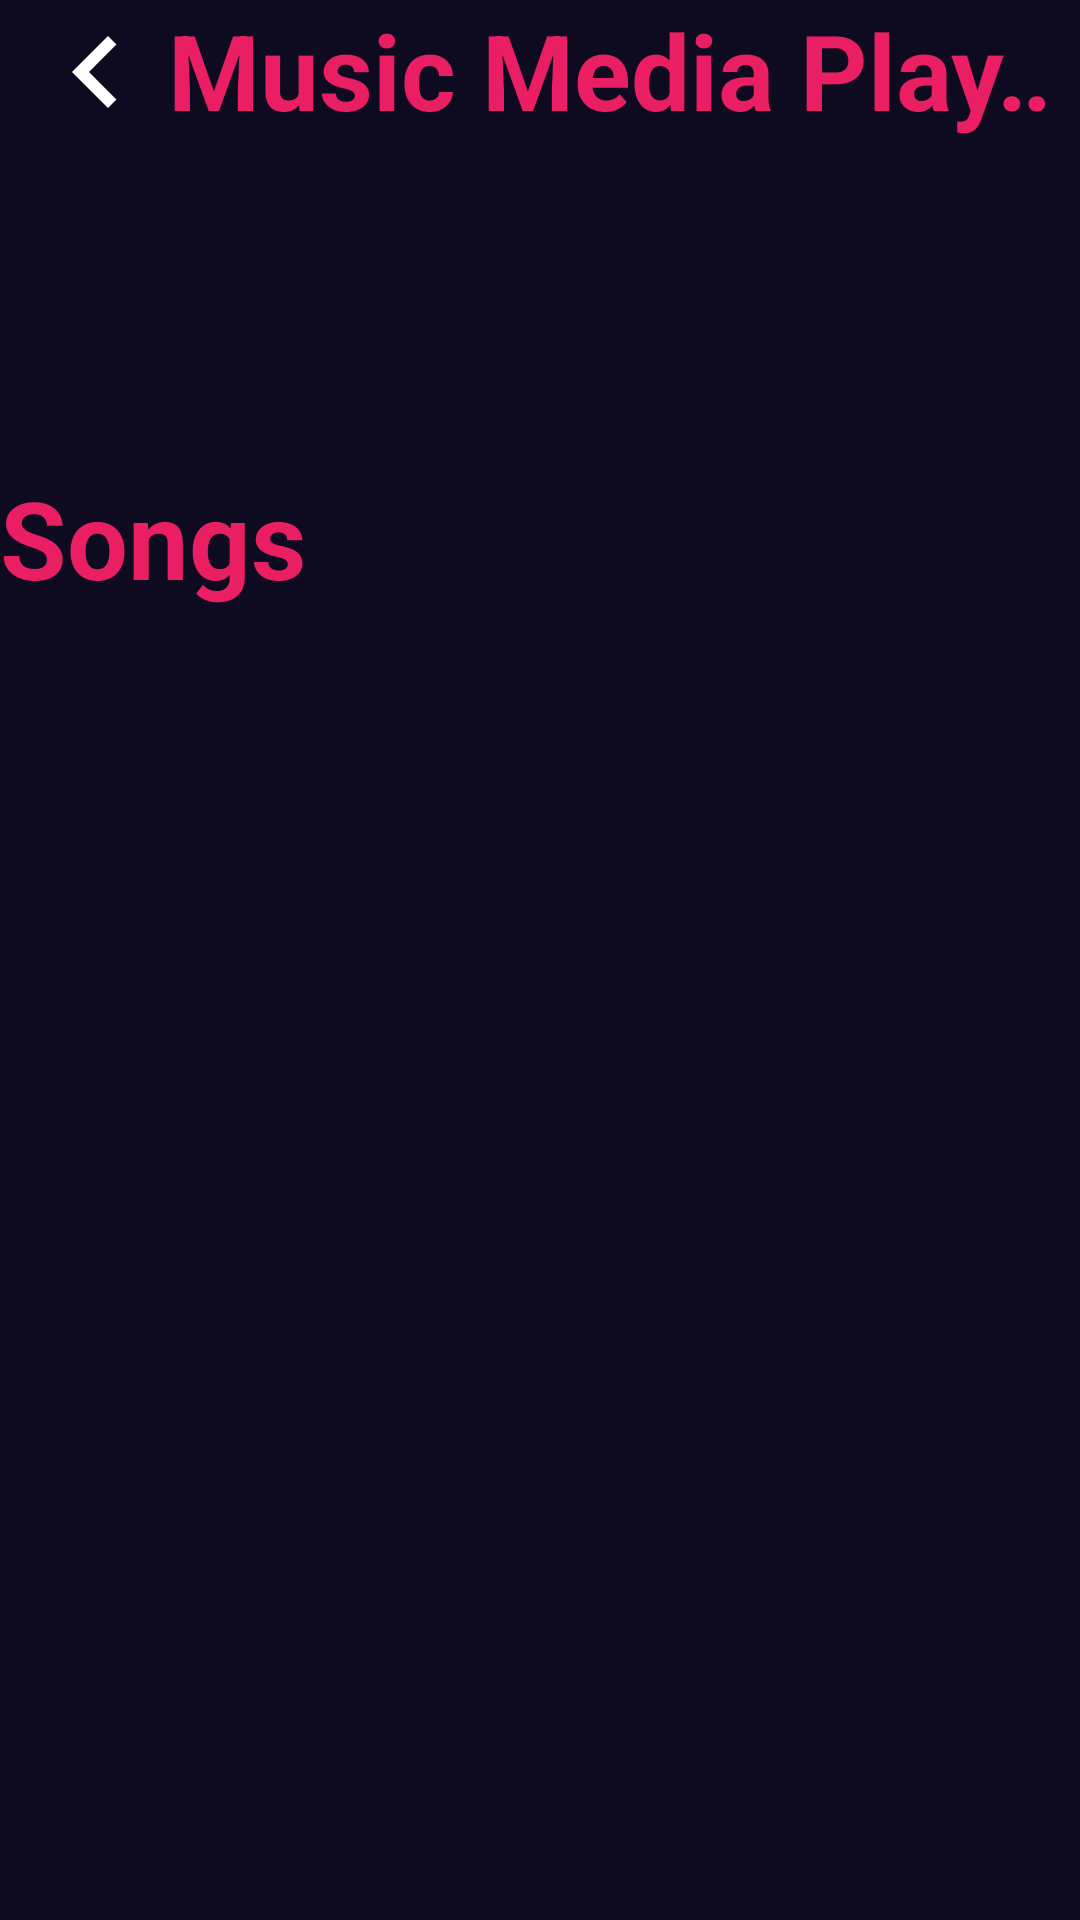

Where icons sit on this 1080px×1920px app screen, as BBox(x1, y1, x2, y2):
backarrow: BBox(72, 36, 117, 108)
